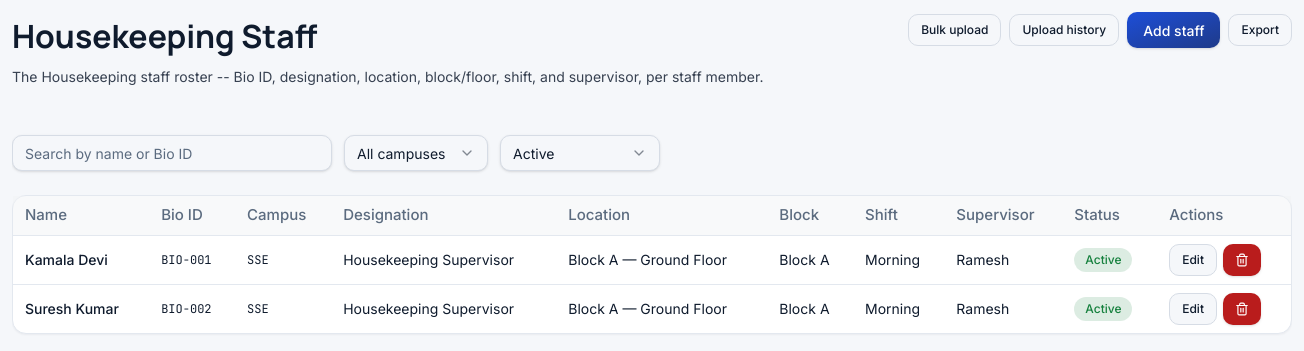
Scenario: HousekeepingStaffListPage › narrows the list by name/bio_id search
The width and height of the screenshot is (1304, 351).
Check: the text "Suresh Kumar" is shown, box top-left (13, 284), bottom-right (149, 332)
Type "BIO-001" into the field named "Search housekeeping staff". click: point(172, 153)
box: top-left (12, 135), bottom-right (332, 171)
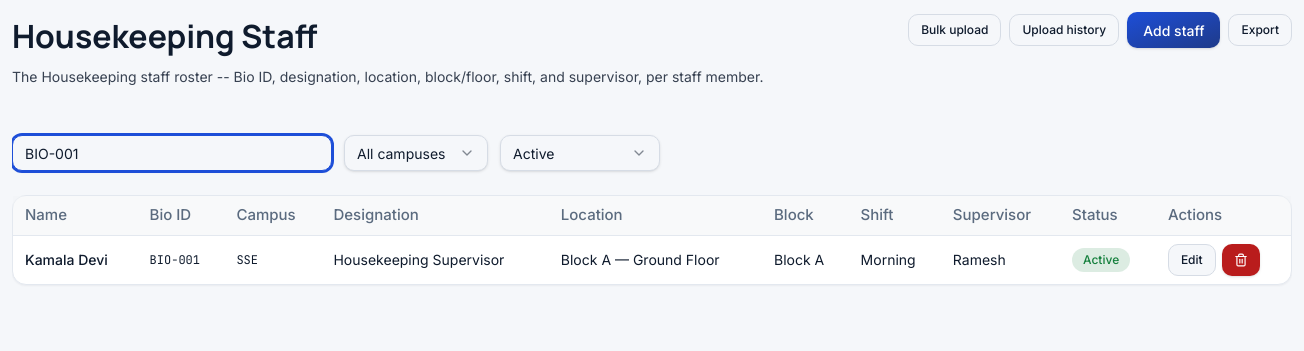
Check: the text "Kamala Devi" is shown, box top-left (13, 235), bottom-right (138, 284)
Check: the text "Suresh Kumar" is gone
